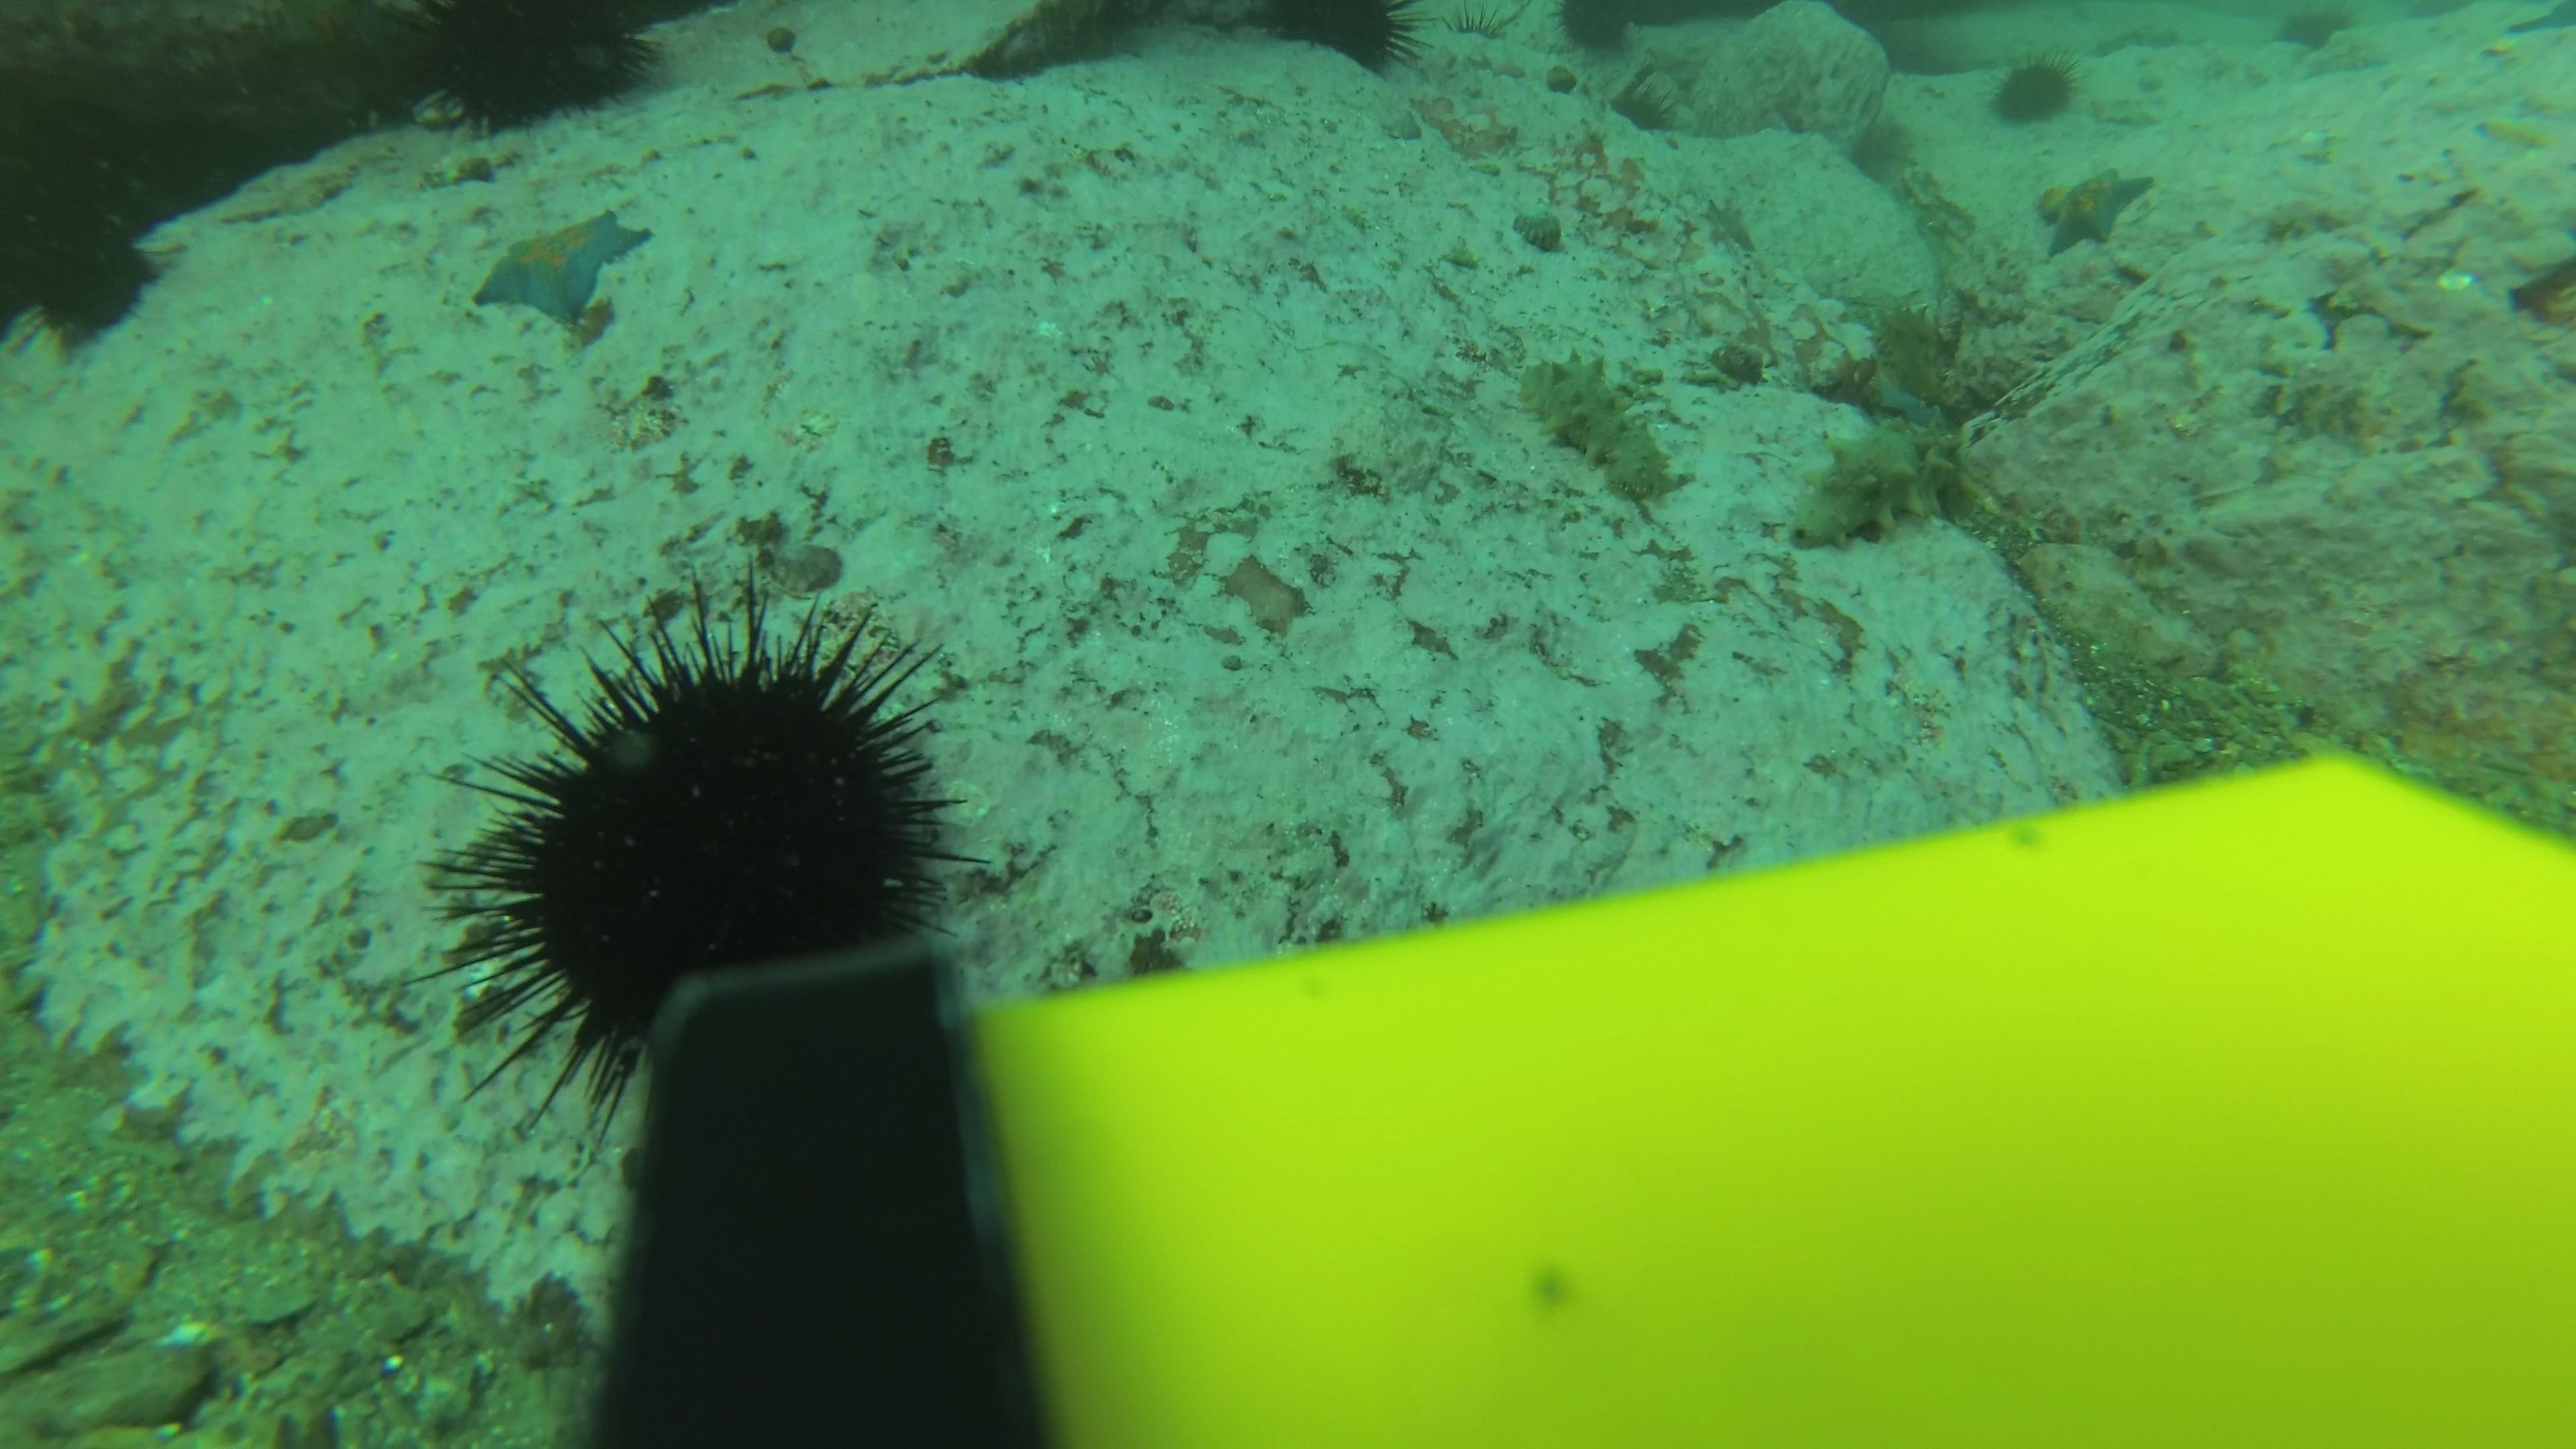echinus: (439, 587, 971, 1095), (4, 131, 175, 357), (400, 4, 667, 138), (1251, 0, 1426, 80), (1605, 74, 1706, 157), (1985, 48, 2084, 131), (1548, 0, 1649, 60)
holothurian: (1771, 421, 1989, 566), (1506, 357, 1723, 501), (1858, 301, 1969, 402)
starfish: (464, 203, 660, 331), (2031, 163, 2158, 260), (1858, 356, 1950, 432), (1698, 191, 1762, 257)
